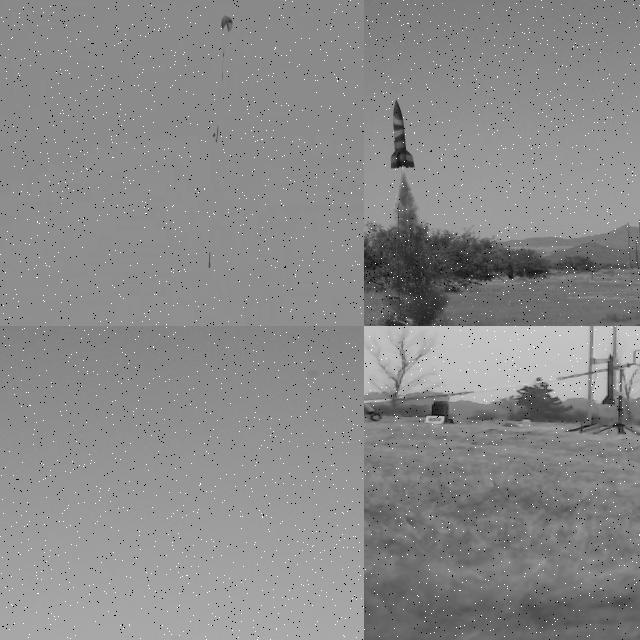Rocket: (389, 99, 416, 169), (600, 353, 617, 405), (208, 252, 211, 268)
